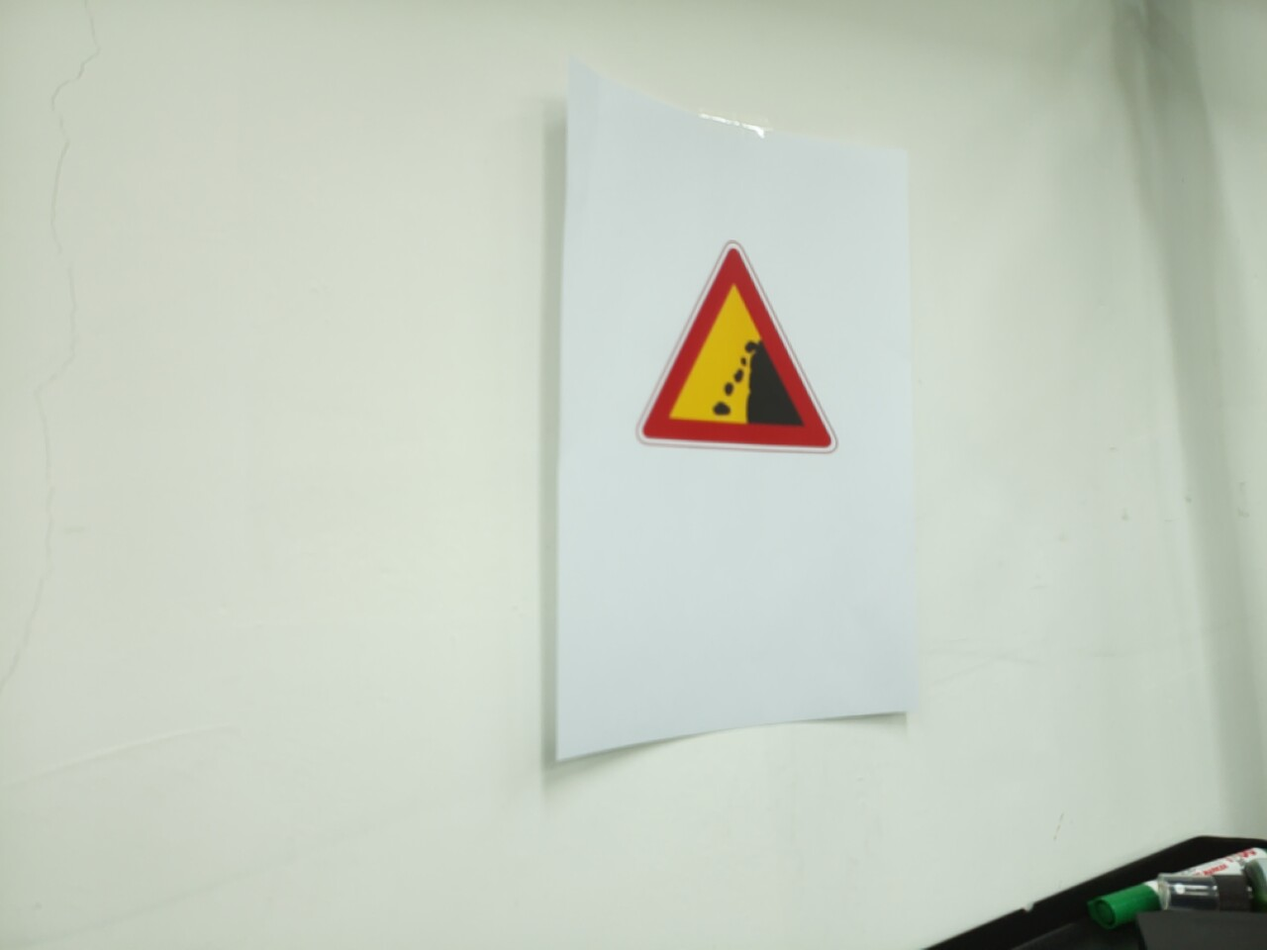falling_rocks: (635, 240, 838, 456)
